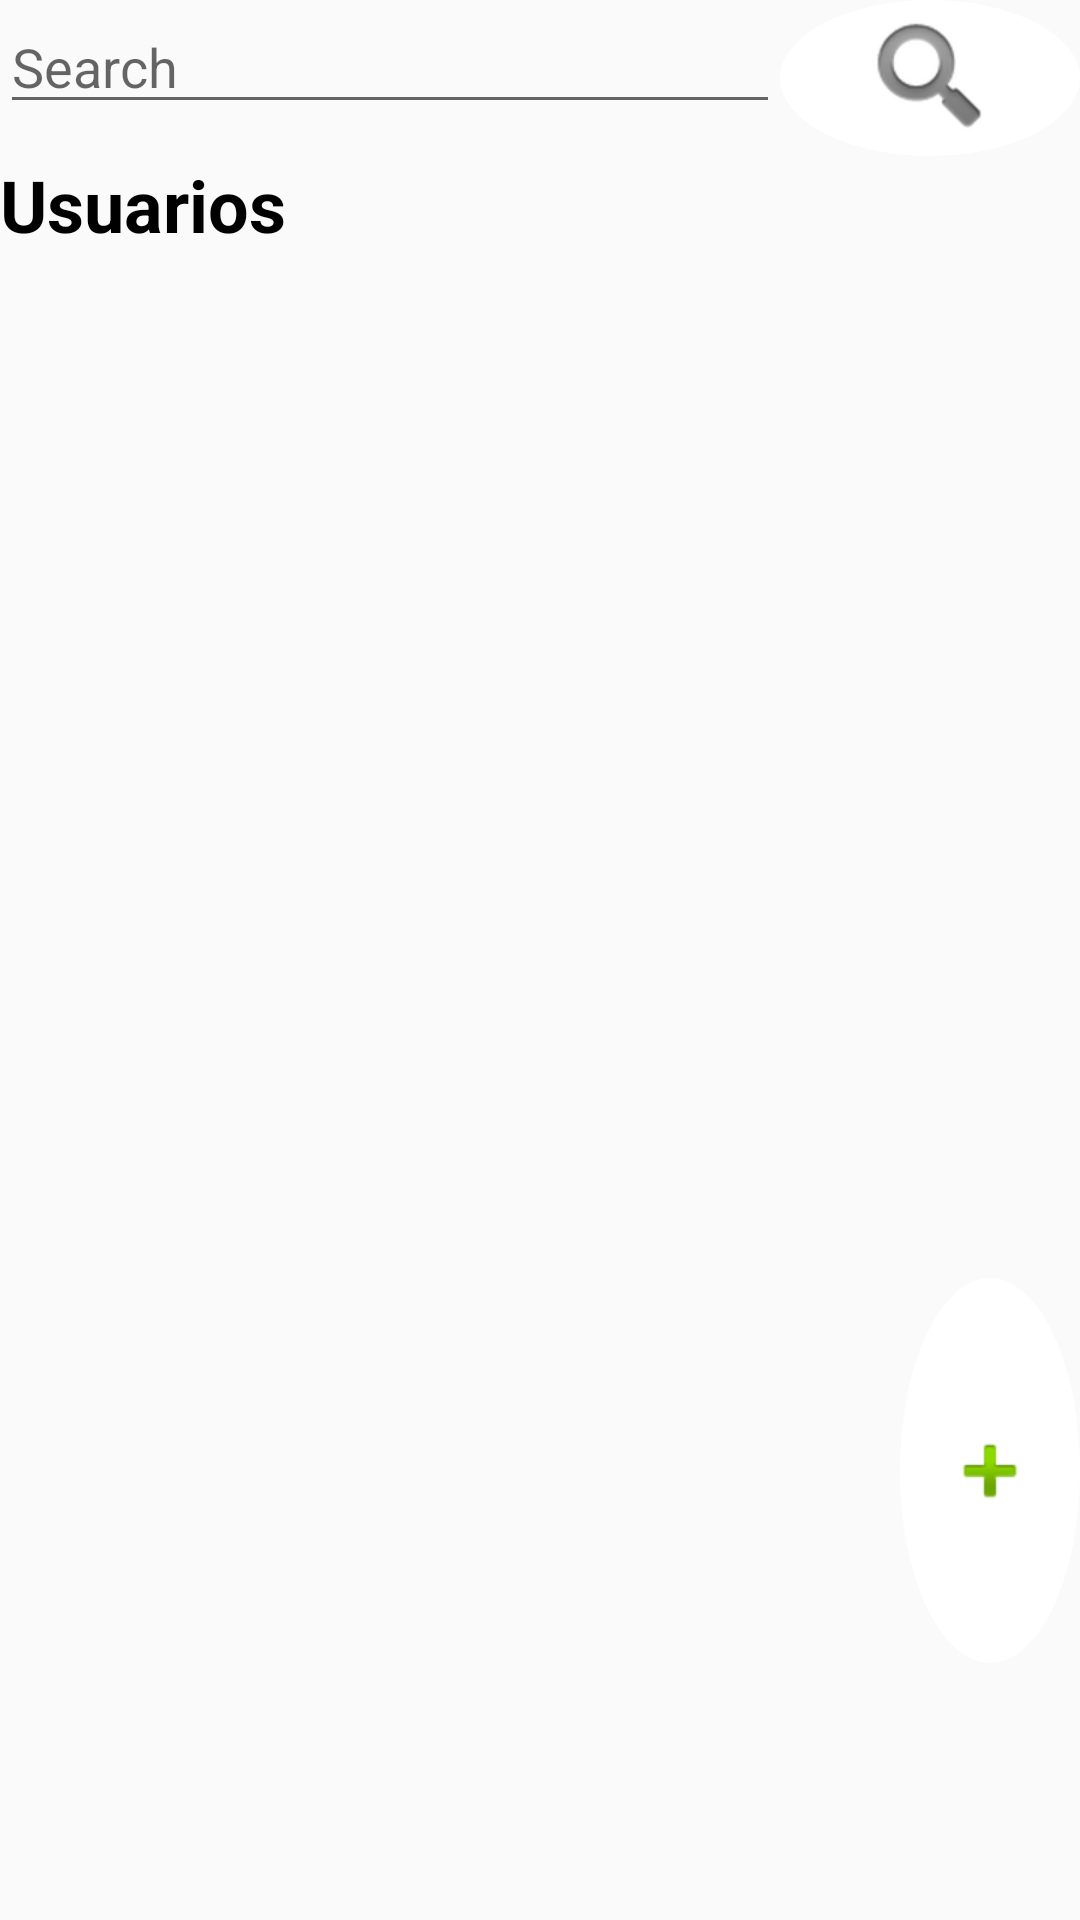

Screen size 1080px×1920px. Icon name, then its center in pixels as (x=x, y=y):
add: (x=990, y=1471)
